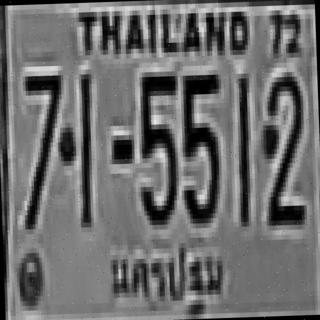N01: (233, 71, 251, 224), (77, 72, 95, 225)
N02: (260, 69, 306, 223)
N05: (135, 69, 179, 223), (179, 72, 222, 221)
N07: (19, 70, 64, 230)
P28: (103, 228, 227, 320)
